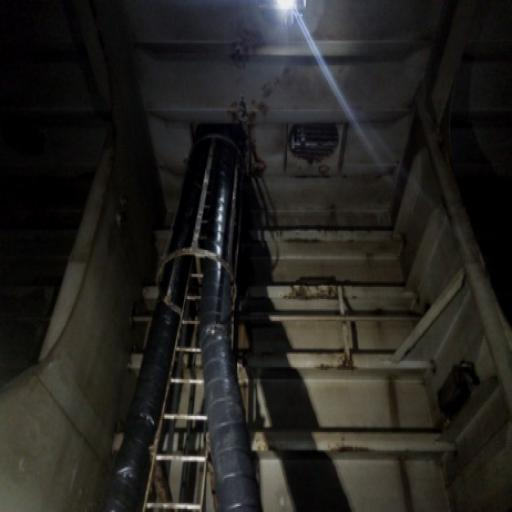Detect-rust-on-metal-surfaces: (231, 48, 296, 143)
